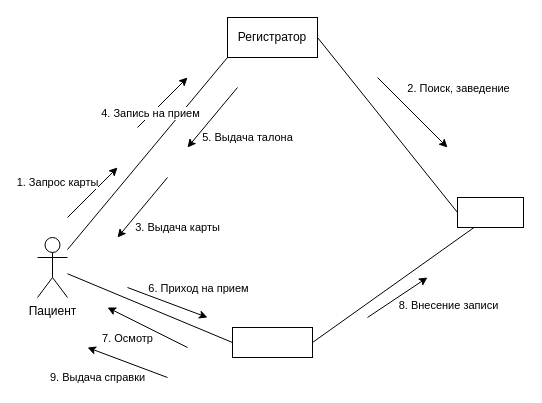
Some shapes in this 542 by 403 pixel diagram are drawn without their labels. Here are the shapes that lost their labels. From the top down, the centre of each, then its label:
[490,212]: Карточка
[272,342]: Врач
